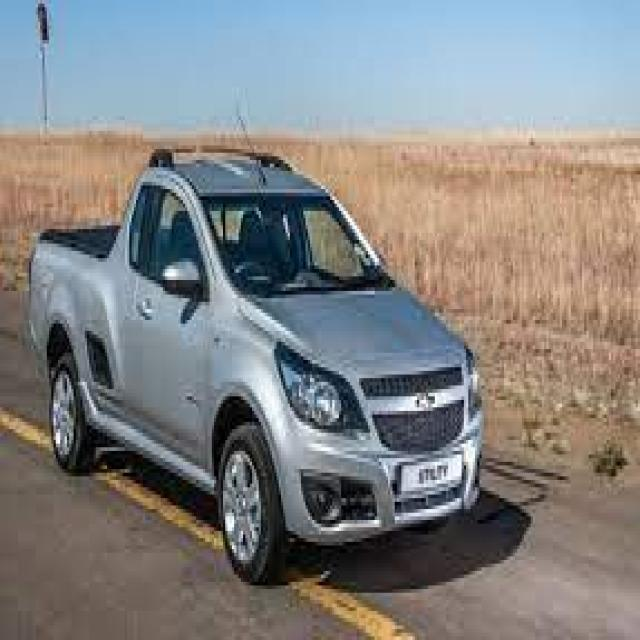Pickup Trucks: (29, 157, 484, 586)
